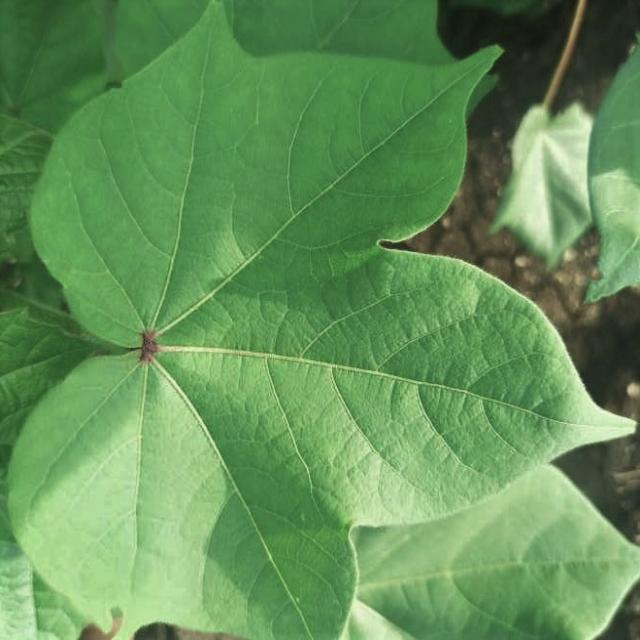Healthy Leaf: (12, 6, 640, 640)
